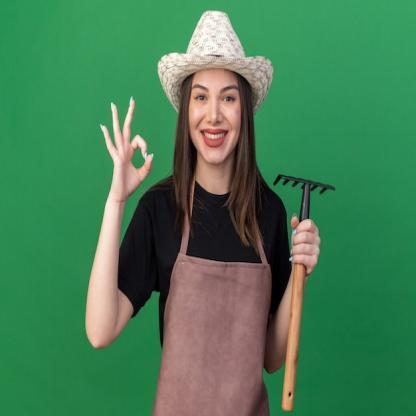ok: (97, 94, 155, 202)
